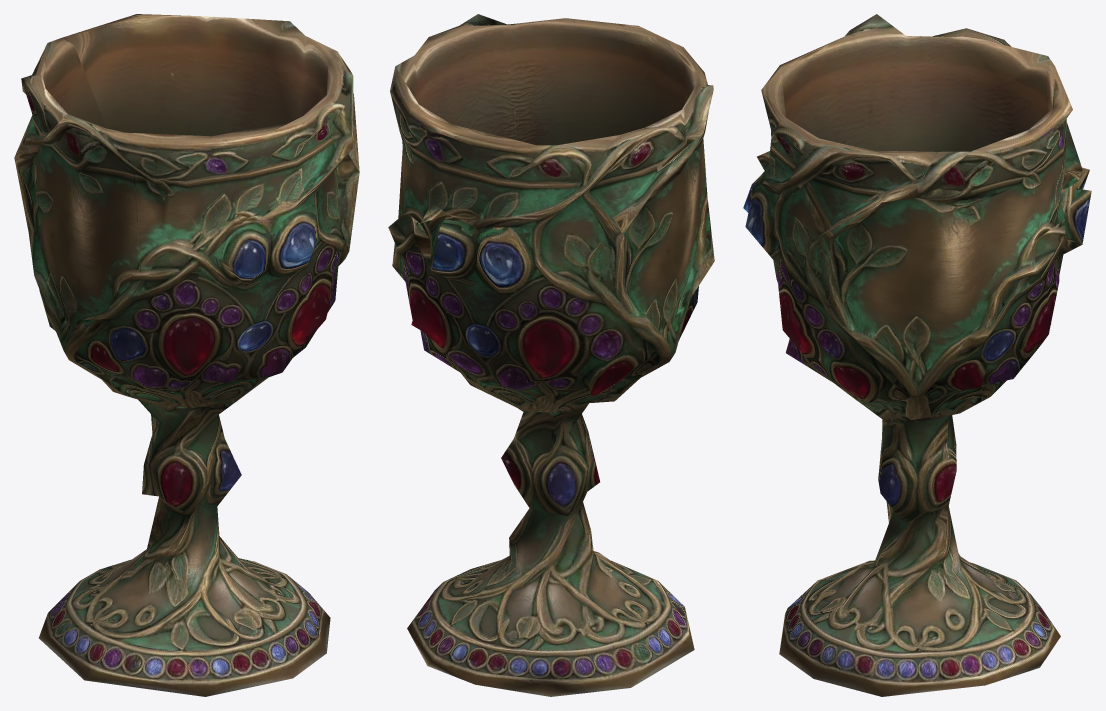
File: chalice-vine.glb
3 views of the same model, side by side, from view 1: azimuth 30°, elevation 25°; view 2: azimuth 150°, elevation 25°; view 3: azimuth 270°, elevation 25° (orthographic). The views are drawn at different scales.
Visible parts, largest first — view 1: Mesh1.0; view 2: Mesh1.0; view 3: Mesh1.0.
Boxes of the visible parts, x1,y1,x2,y2 form: Mesh1.0: (14,14,359,696); Mesh1.0: (388,14,714,696); Mesh1.0: (743,14,1091,696).
Size of the model in its own units: 1.04 by 1.92 by 1.09.
Materials: 1 (1 with a texture image).
